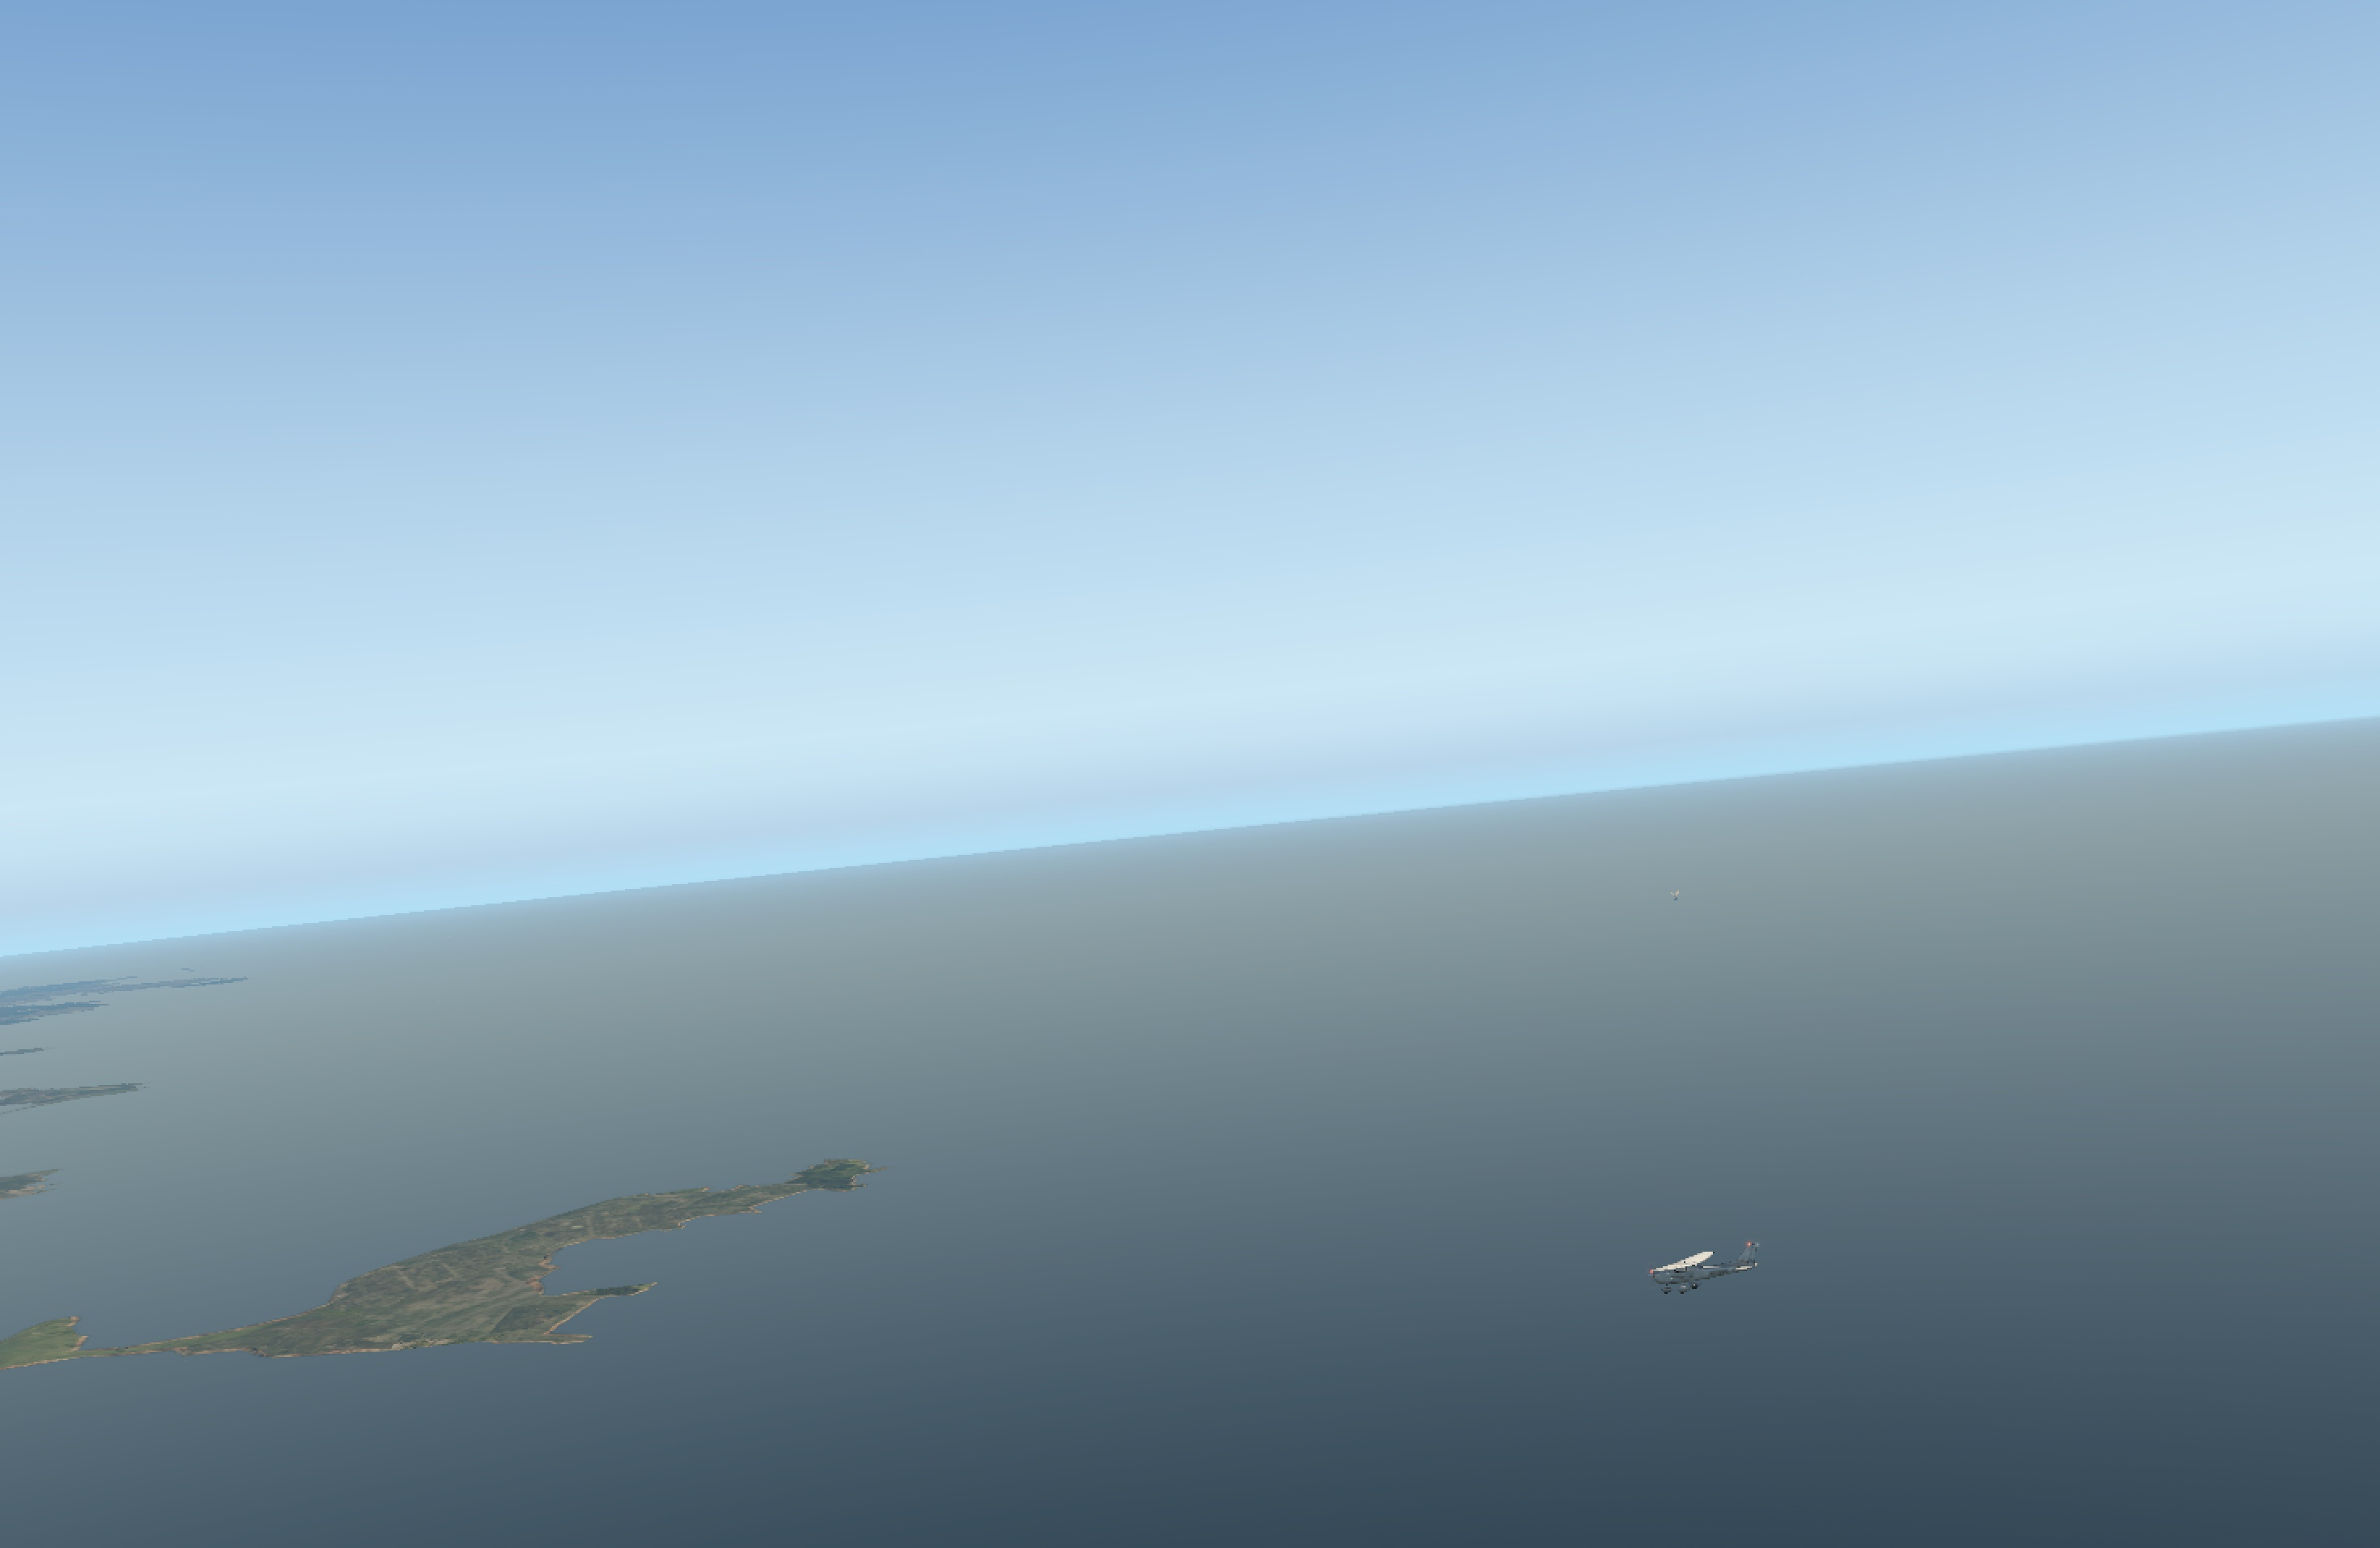aircraft: (1629, 1253, 1735, 1291)
